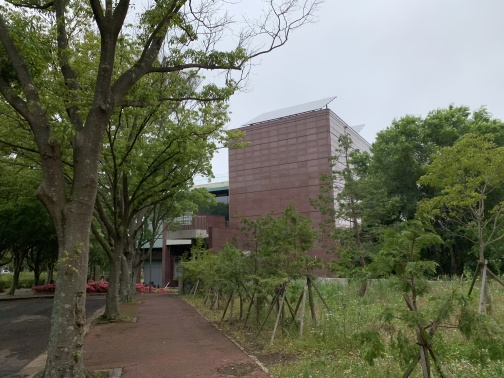Museum: (161, 97, 367, 304)
